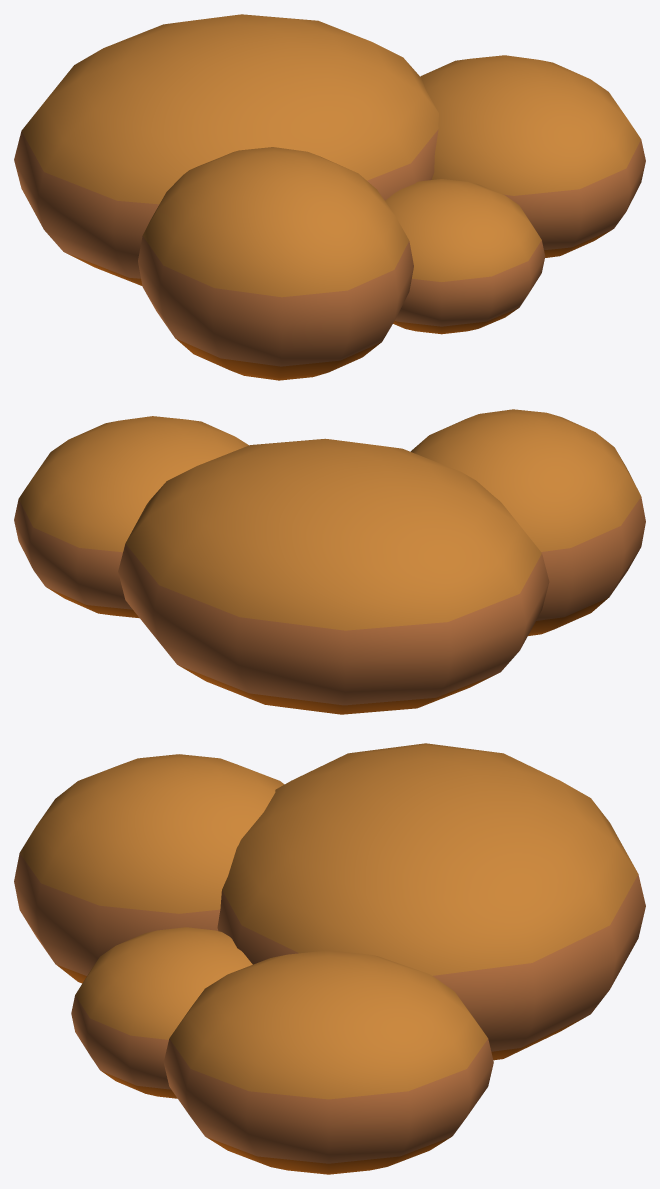
Rendered from bush-33_col.fbx.
3 views of the same model, one above another, from view 1: azimuth 30°, elevation 25°; view 2: azimuth 150°, elevation 25°; view 3: azimuth 270°, elevation 25° (orthographic). The views are drawn at different scales.
Visible parts, largest first — view 1: bush-33.col; view 2: bush-33.col; view 3: bush-33.col.
Part boxes in pixels (<box>): bush-33.col: <box>14,14,645,380</box>; bush-33.col: <box>14,409,645,714</box>; bush-33.col: <box>14,743,645,1174</box>.
Size of the model in its own units: 0.4055 by 0.1595 by 0.3676.
Materials: 1 (1 with a texture image).
